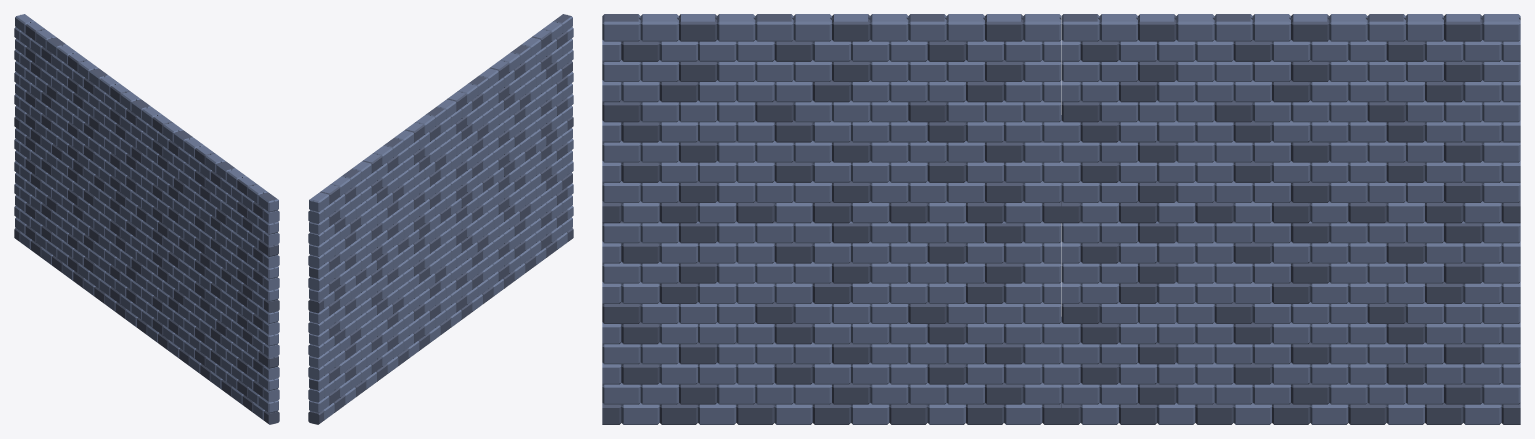
The model's file is wall.fbx.
3 renders of one model, left to right at view 1: azimuth 30°, elevation 25°; view 2: azimuth 150°, elevation 25°; view 3: azimuth 270°, elevation 25°, orthographic. The views are drawn at different scales.
Visible parts, largest first — view 1: brick wall.013; view 2: brick wall.013; view 3: brick wall.013.
Boxes of the visible parts, <box> form: brick wall.013: <box>14,14,279,424</box>; brick wall.013: <box>308,14,573,424</box>; brick wall.013: <box>602,14,1520,424</box>.
Bounding box in the file's own units: 31.26 × 613 × 1264.
